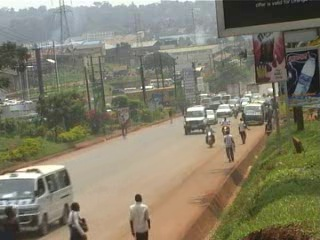Car: (177, 102, 209, 132), (204, 107, 217, 129), (214, 102, 230, 116), (208, 100, 222, 110)
Motorcycle: (201, 124, 215, 149), (218, 117, 230, 137), (231, 103, 239, 122)
